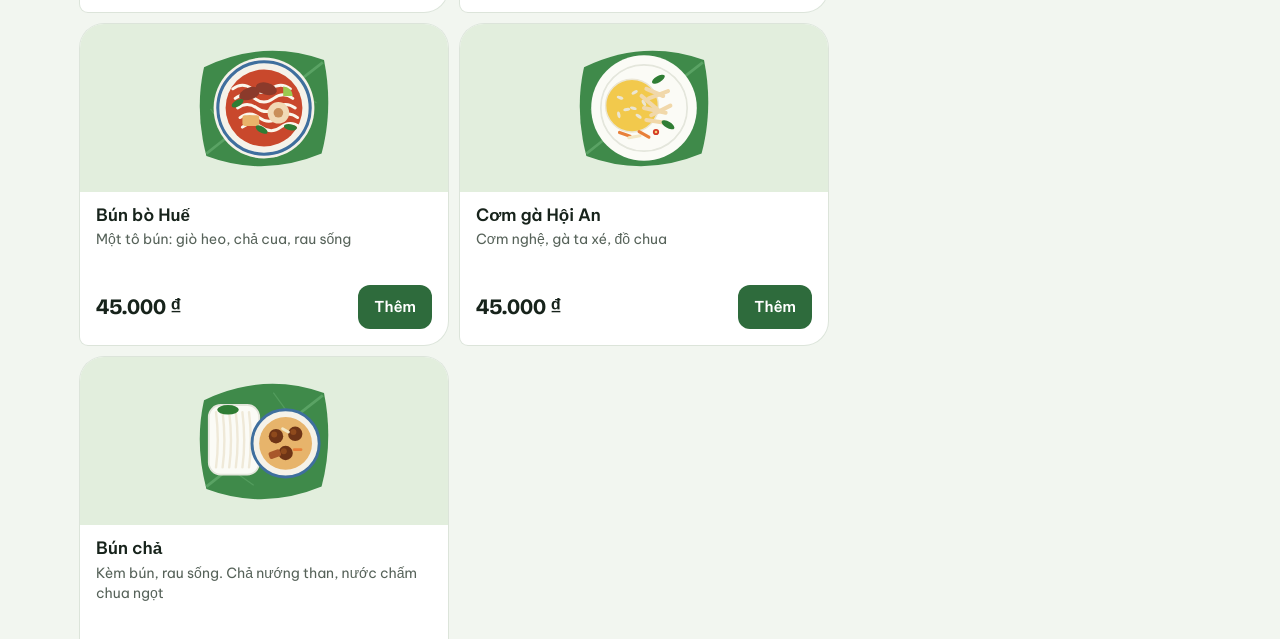
day menu › tapping "Add" again on a dish already in the cart gives feedback with the new quantity
(page scrolled)
Note: The feedback comes after the awaited action (B23).
Click the button "Thêm" below "Một tô bún: giò heo, chả cua, rau sống".
click(395, 307)  # box [358, 285, 432, 329]
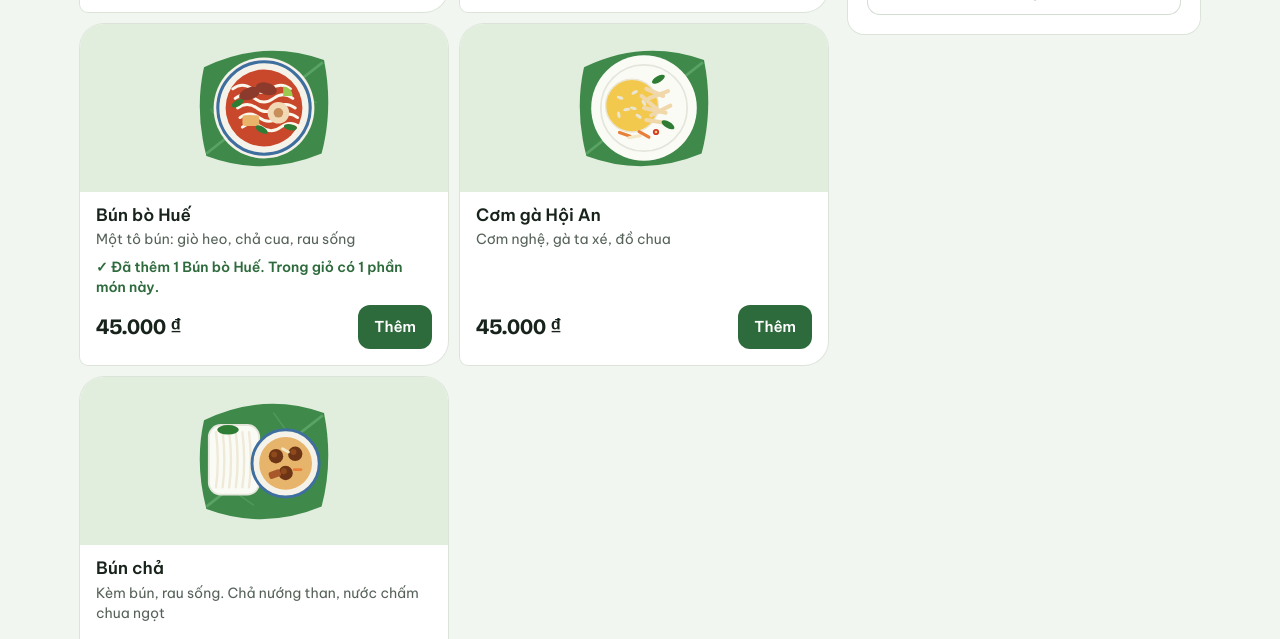
Check: the text "✓ Đã thêm 1 Bún bò Huế. Trong giỏ có 1 phần món này." is shown, box [96, 257, 432, 297]
Click the button "Thêm" below "Một tô bún: giò heo, chả cua, rau sống".
click(395, 327)  # box [358, 305, 432, 349]
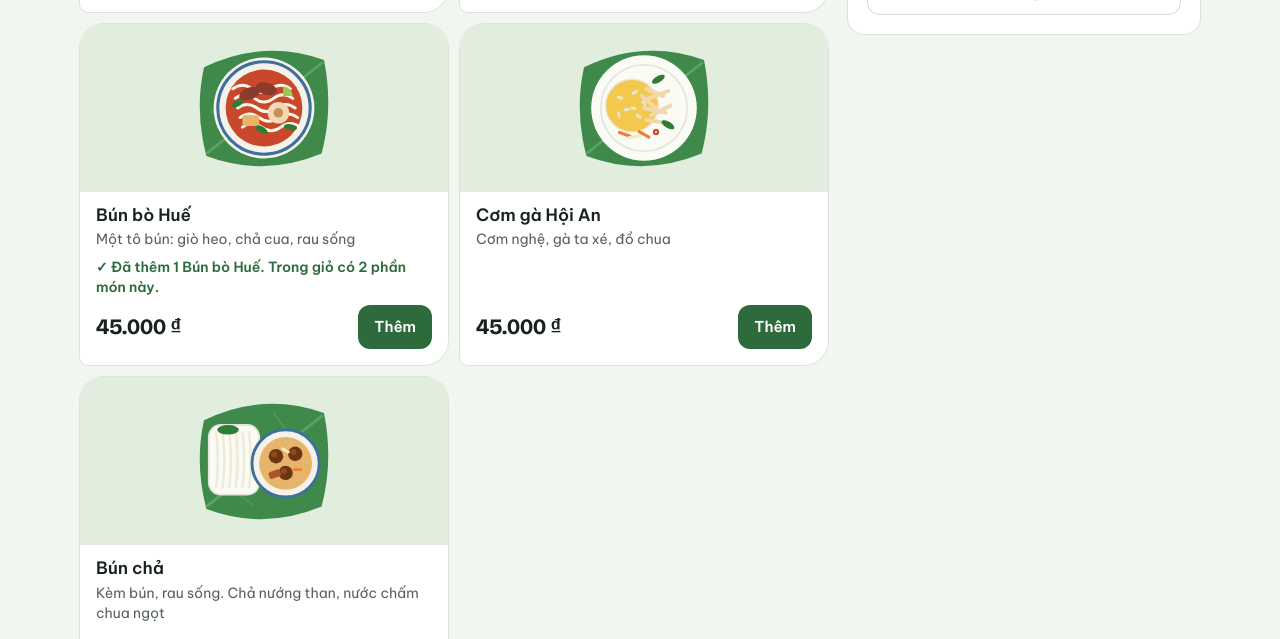
Check: the text "✓ Đã thêm 1 Bún bò Huế. Trong giỏ có 2 phần món này." is shown, box [96, 257, 432, 297]
